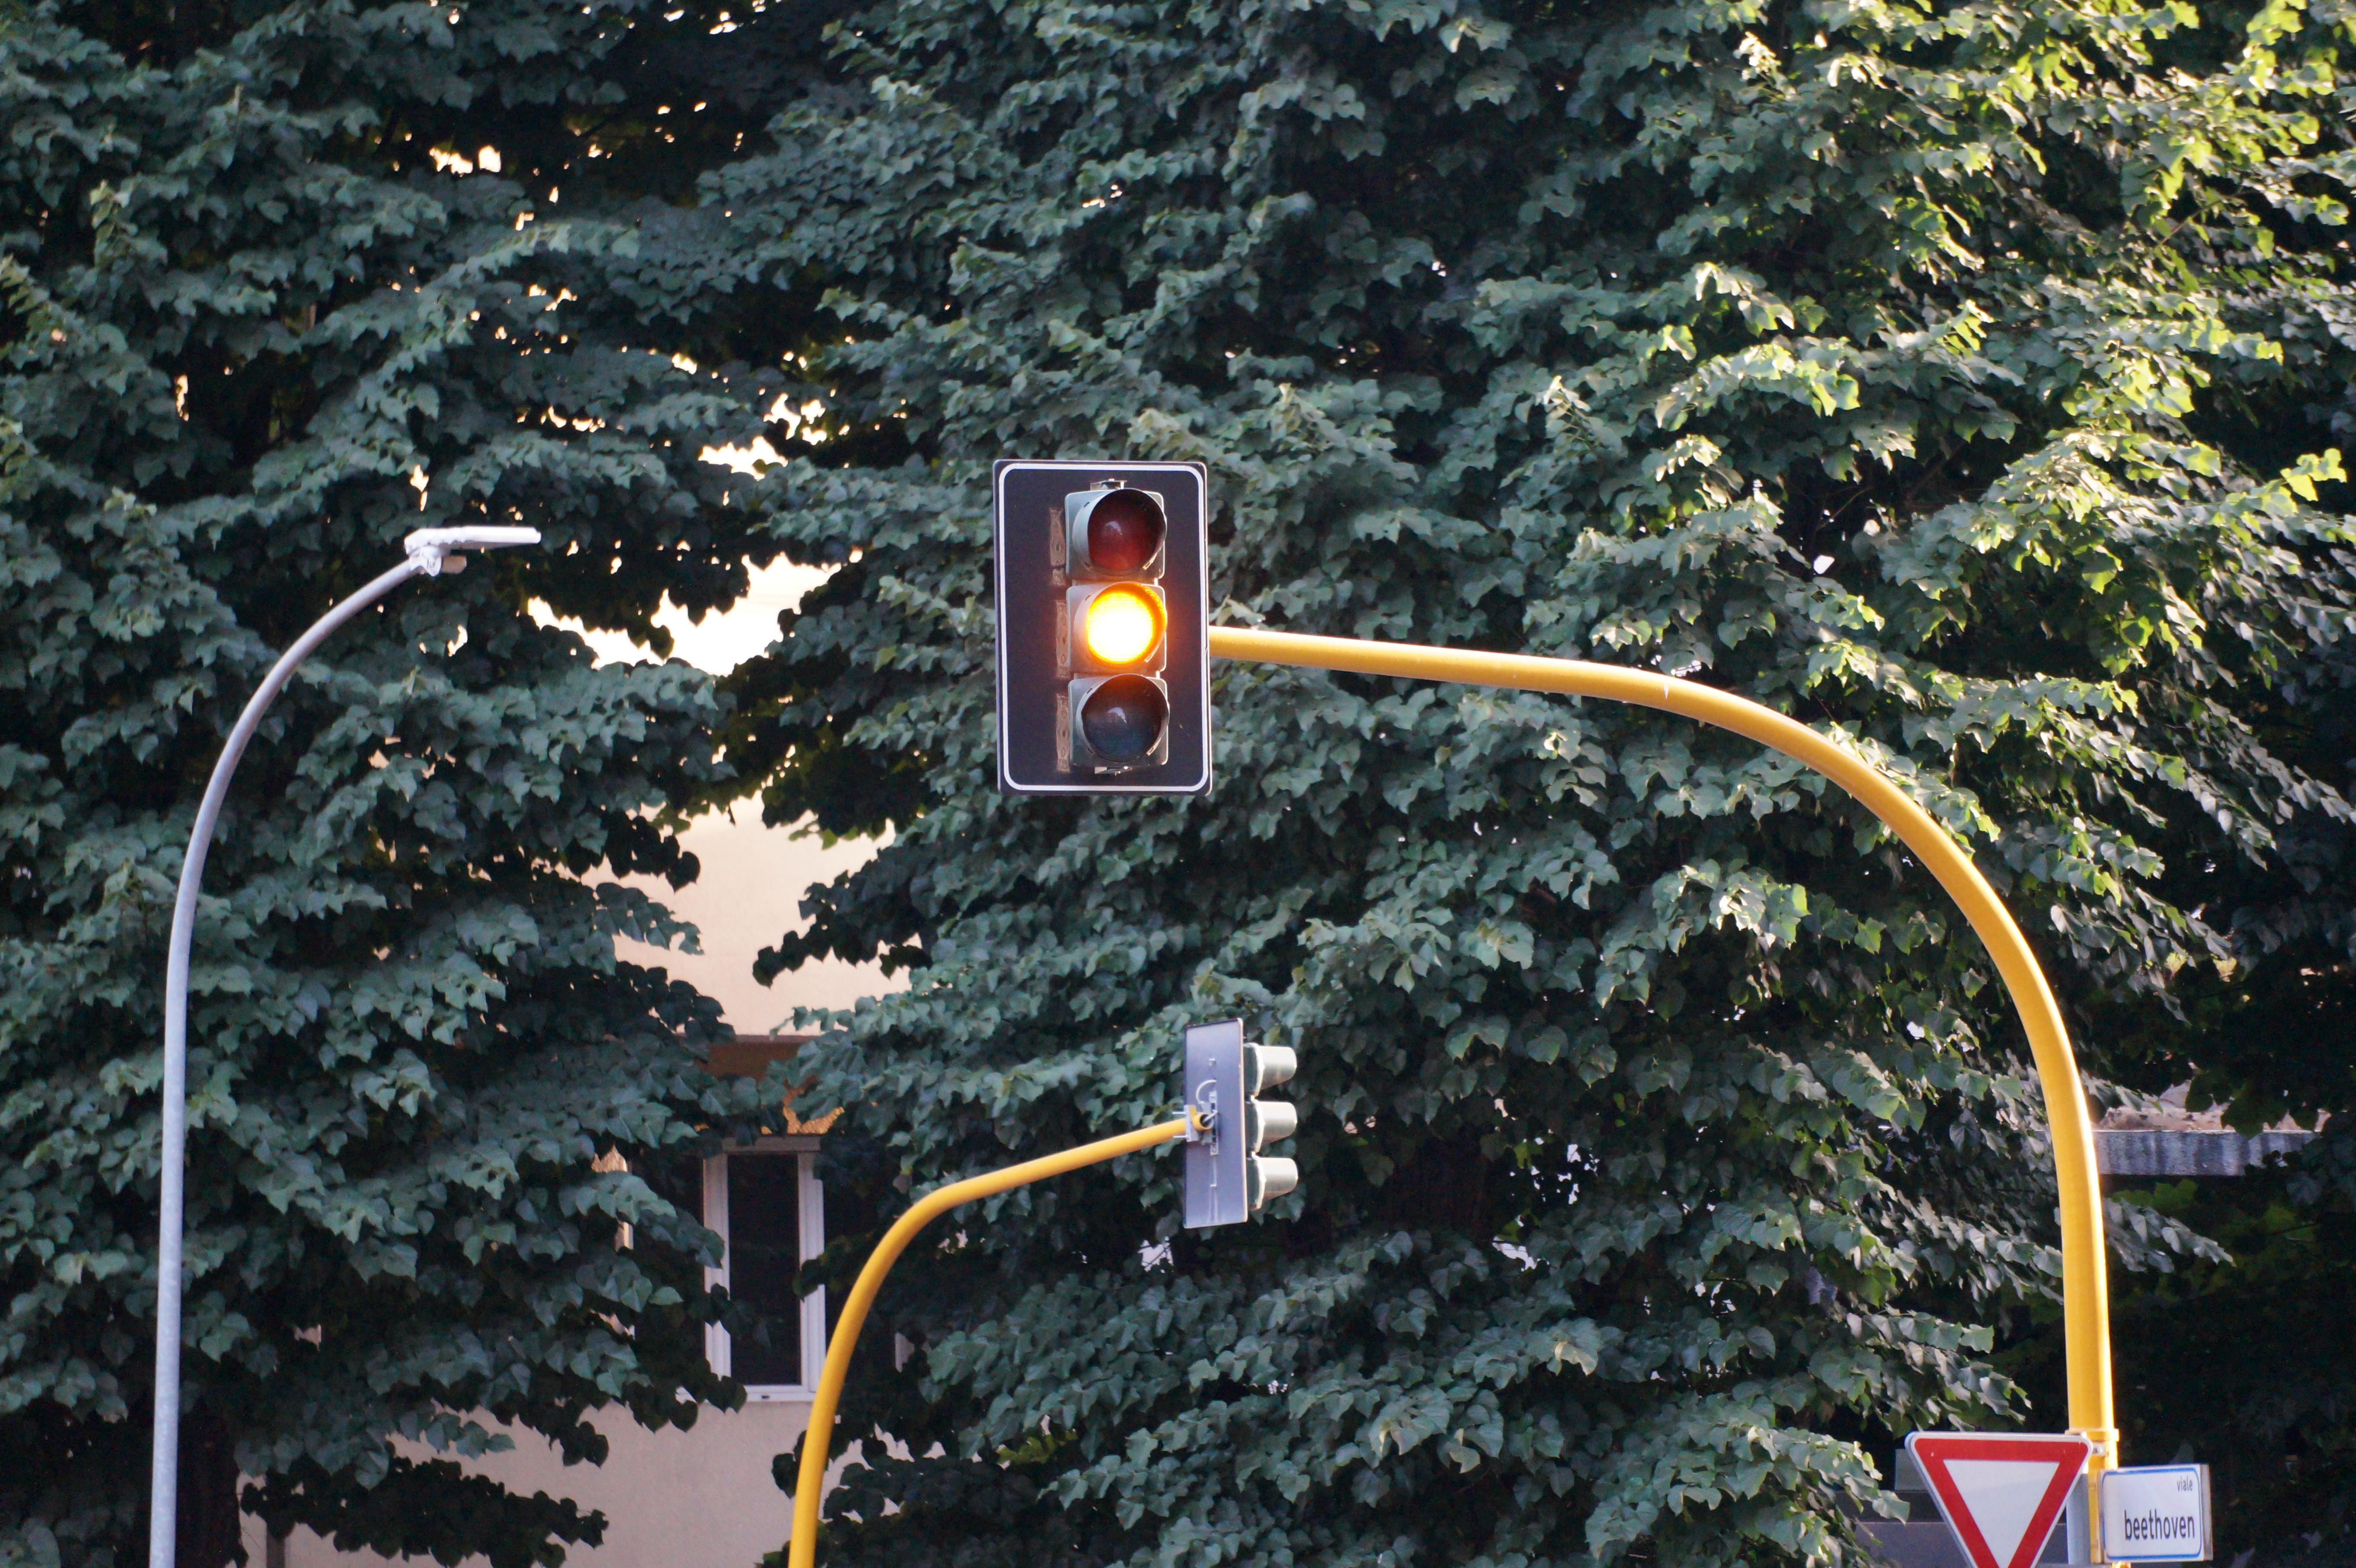yellow_light: (999, 460, 1211, 793)
